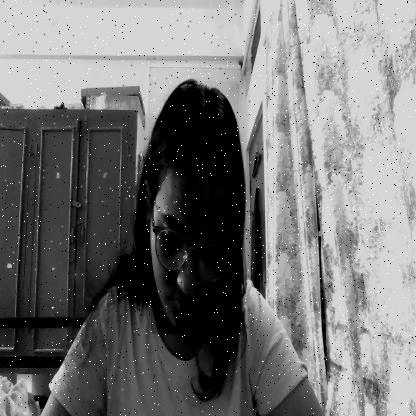Distracted: (151, 81, 239, 334)
